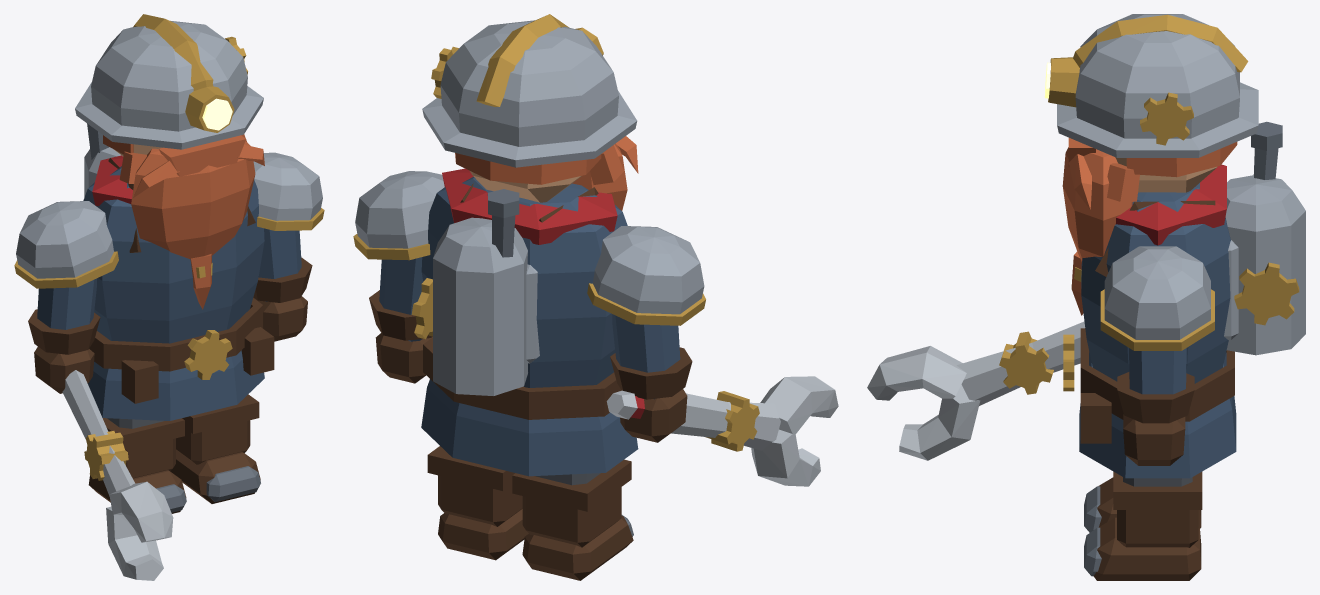
File: Engineer.fbx
3 renders of one model, left to right at view 1: azimuth 30°, elevation 25°; view 2: azimuth 150°, elevation 25°; view 3: azimuth 270°, elevation 25°, orthographic. The views are drawn at different scales.
Visible parts, largest first — view 1: Torso, Helm, FaceBeard, Wrench, Belt, Tunic, RightArmPauldron, LeftLegBoot, LeftArmPauldron, RightLegBoot, RightArmGlove, LeftArmGlove (+13 smaller); view 2: Helm, Pack, Torso, Tunic, RightLegBoot, Wrench, RightArmPauldron, LeftLegBoot, LeftArmPauldron, Kerchief, Belt, RightArmGlove (+13 smaller); view 3: Helm, Pack, Wrench, Torso, LeftLegBoot, LeftArmPauldron, FaceBeard, Tunic, LeftArmGlove, Belt, Kerchief, Gears (+12 smaller).
Part boxes in pixels (x1,y1,x2,y2): Torso: [83, 166, 264, 343]; Helm: [75, 20, 263, 149]; FaceBeard: [119, 134, 264, 309]; Wrench: [62, 370, 173, 580]; Belt: [89, 298, 274, 403]; Tunic: [88, 350, 264, 420]; RightArmPauldron: [16, 201, 113, 278]; LeftLegBoot: [170, 394, 260, 503]; LeftArmPauldron: [253, 152, 322, 220]; RightLegBoot: [88, 418, 186, 513]; RightArmGlove: [28, 309, 100, 393]; LeftArmGlove: [253, 257, 312, 341]; Helm: [422, 20, 637, 167]; Pack: [433, 217, 539, 395]; Torso: [421, 176, 627, 387]; Tunic: [421, 379, 638, 476]; RightLegBoot: [512, 459, 633, 580]; Wrench: [606, 376, 838, 486]; RightArmPauldron: [593, 226, 704, 314]; LeftLegBoot: [427, 446, 528, 560]; LeftArmPauldron: [355, 171, 444, 248]; Kerchief: [442, 168, 617, 244]; Belt: [423, 337, 621, 419]; RightArmGlove: [610, 347, 692, 442]; Helm: [1057, 14, 1258, 157]; Pack: [1224, 175, 1305, 355]; Wrench: [867, 321, 1085, 460]; Torso: [1081, 183, 1230, 383]; LeftLegBoot: [1093, 471, 1202, 580]; LeftArmPauldron: [1104, 246, 1210, 339]; FaceBeard: [1062, 138, 1139, 315]; Tunic: [1079, 352, 1236, 478]; LeftArmGlove: [1117, 372, 1194, 465]; Belt: [1080, 328, 1234, 443]; Kerchief: [1116, 164, 1226, 245]; Gears: [1063, 262, 1299, 391].
Size of the model in its own units: 4.28 by 6.48 by 4.83.
